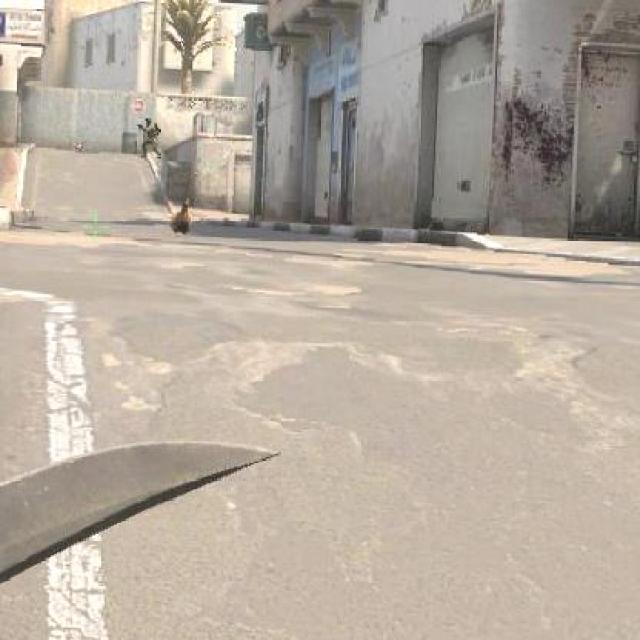CT-Body: (144, 116, 152, 124)
CT-Head: (135, 110, 163, 164)
